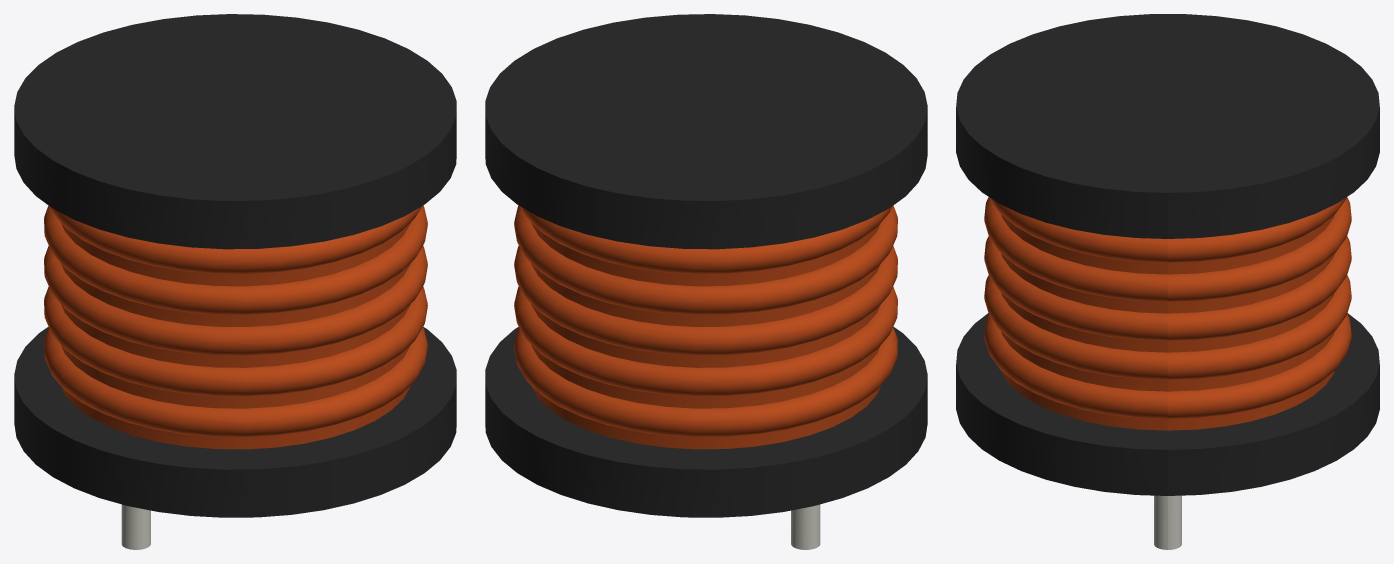
File: kc-l_radial_d13.5mm_p7.00mm_fastron_09hcp.glb
3 renders of one model, left to right at view 1: azimuth 30°, elevation 25°; view 2: azimuth 150°, elevation 25°; view 3: azimuth 270°, elevation 25°, orthographic. The views are drawn at different scales.
Visible parts, largest first — view 1: 0_0_0_0, 0.4166666666666667_0.08333333333333333_0_0, 0.6666666666666666_0.6666666666666666_0.5833333333333334_0.8; view 2: 0_0_0_0, 0.4166666666666667_0.08333333333333333_0_0, 0.6666666666666666_0.6666666666666666_0.5833333333333334_0.8; view 3: 0_0_0_0, 0.4166666666666667_0.08333333333333333_0_0, 0.6666666666666666_0.6666666666666666_0.5833333333333334_0.8.
Part boxes in pixels (left/top/right/bottom): 0_0_0_0: left=14, top=14, right=456, bottom=517; 0.4166666666666667_0.08333333333333333_0_0: left=44, top=205, right=427, bottom=449; 0.6666666666666666_0.6666666666666666_0.5833333333333334_0.8: left=121, top=504, right=150, bottom=549; 0_0_0_0: left=485, top=14, right=927, bottom=517; 0.4166666666666667_0.08333333333333333_0_0: left=514, top=205, right=897, bottom=449; 0.6666666666666666_0.6666666666666666_0.5833333333333334_0.8: left=791, top=504, right=820, bottom=549; 0_0_0_0: left=956, top=14, right=1379, bottom=495; 0.4166666666666667_0.08333333333333333_0_0: left=984, top=197, right=1351, bottom=430; 0.6666666666666666_0.6666666666666666_0.5833333333333334_0.8: left=1154, top=495, right=1181, bottom=549.
Bounding box in the file's own units: 1.35 × 1.39 × 1.35.
